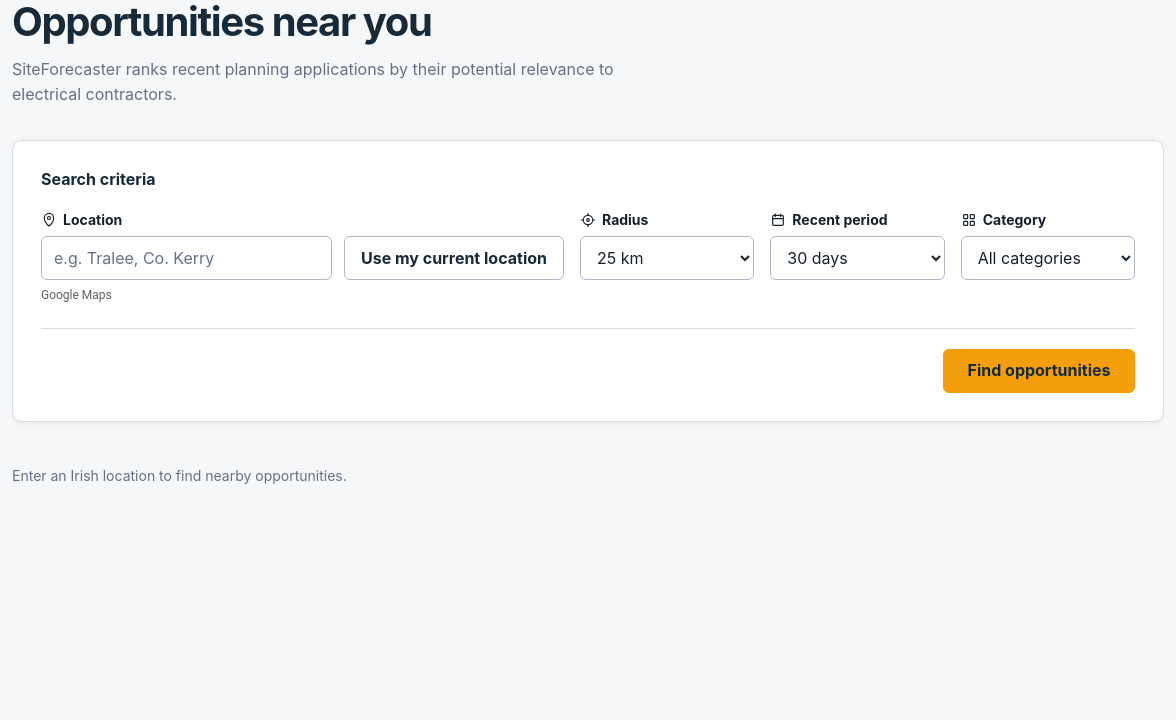
Test case: OpportunitiesPage › renders successful results and the resolved display location
The width and height of the screenshot is (1176, 720).
Type "Tralee" into the field labelled "Location" at (186, 258), box [41,236,332,280]
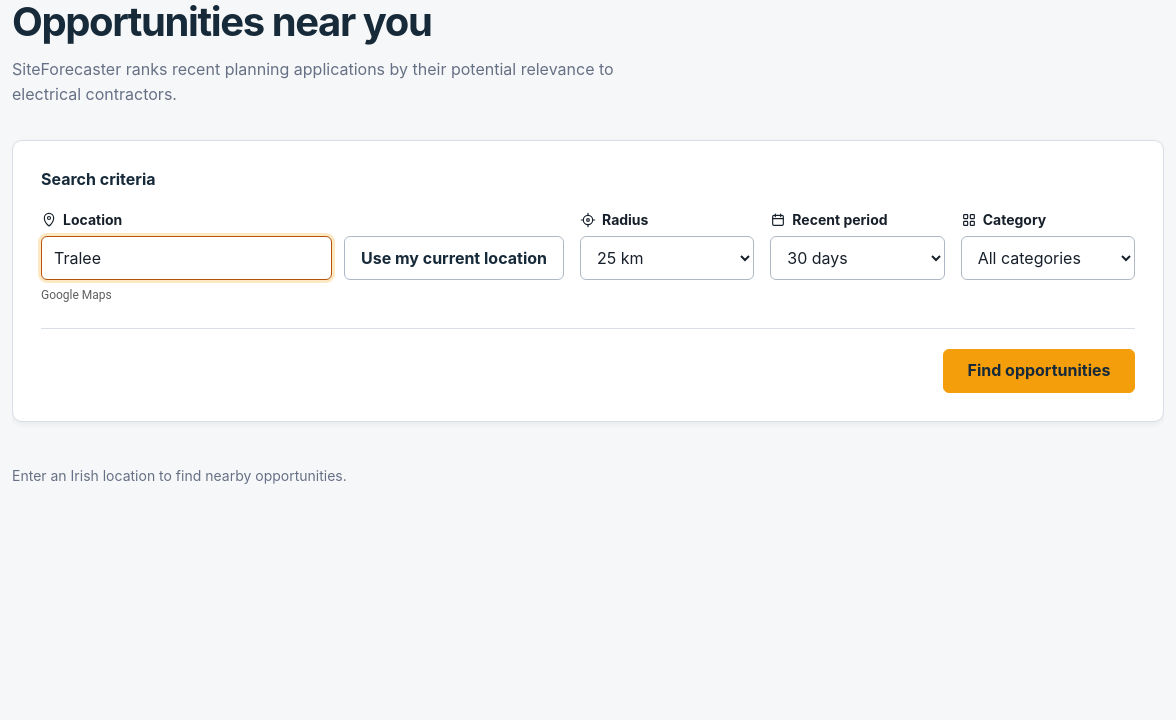
Select "25 km" in the dropdown labelled "Radius" at (667, 258), box [580,236,754,280]
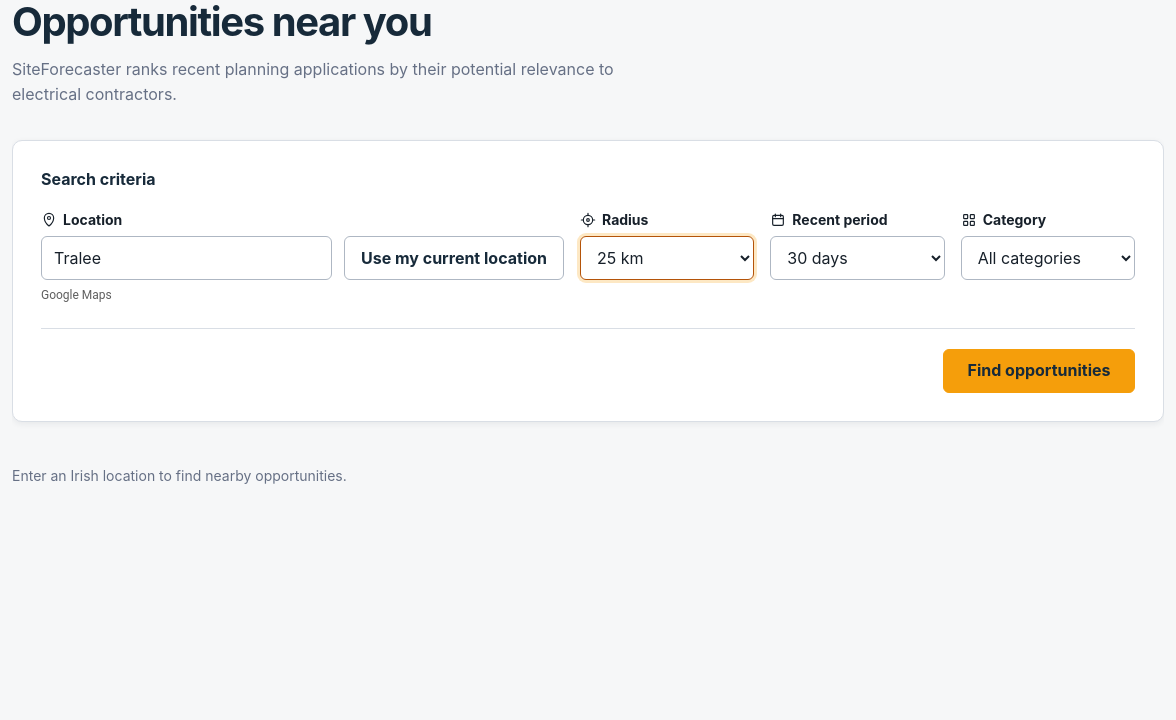
Select "30 days" in the dropdown labelled "Recent period" at (857, 258), box [770,236,945,280]
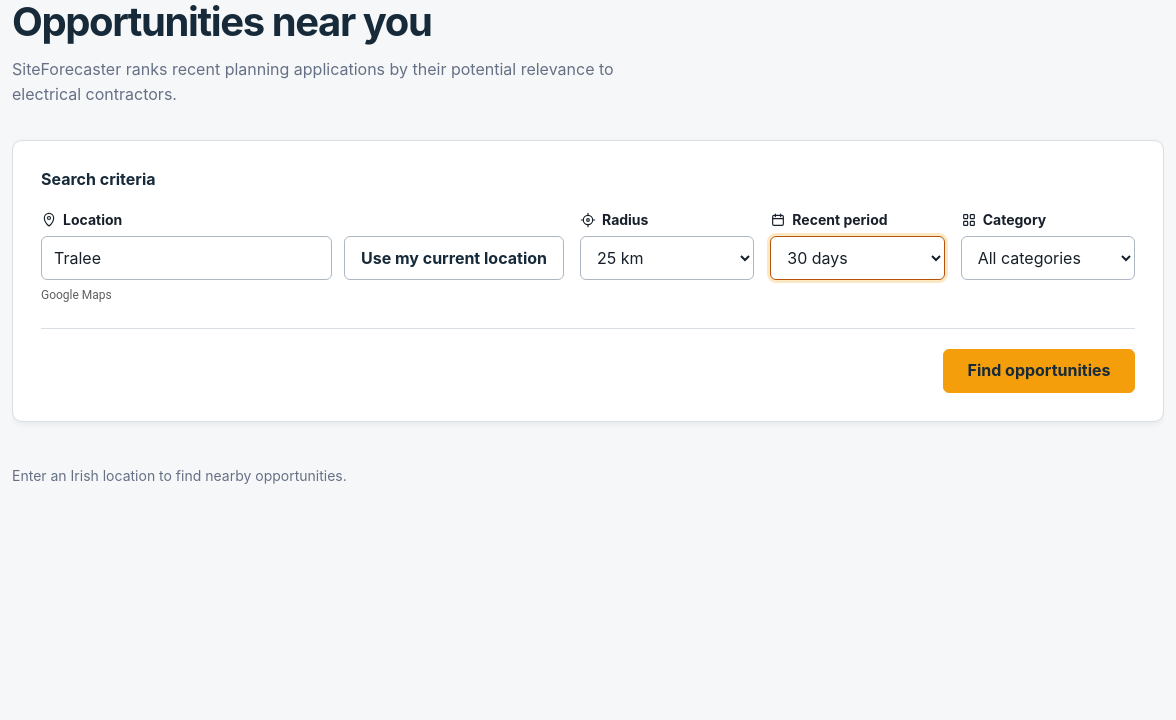
Click the button "Find opportunities" at (1039, 371), box [943,349,1135,393]
(page scrolled)
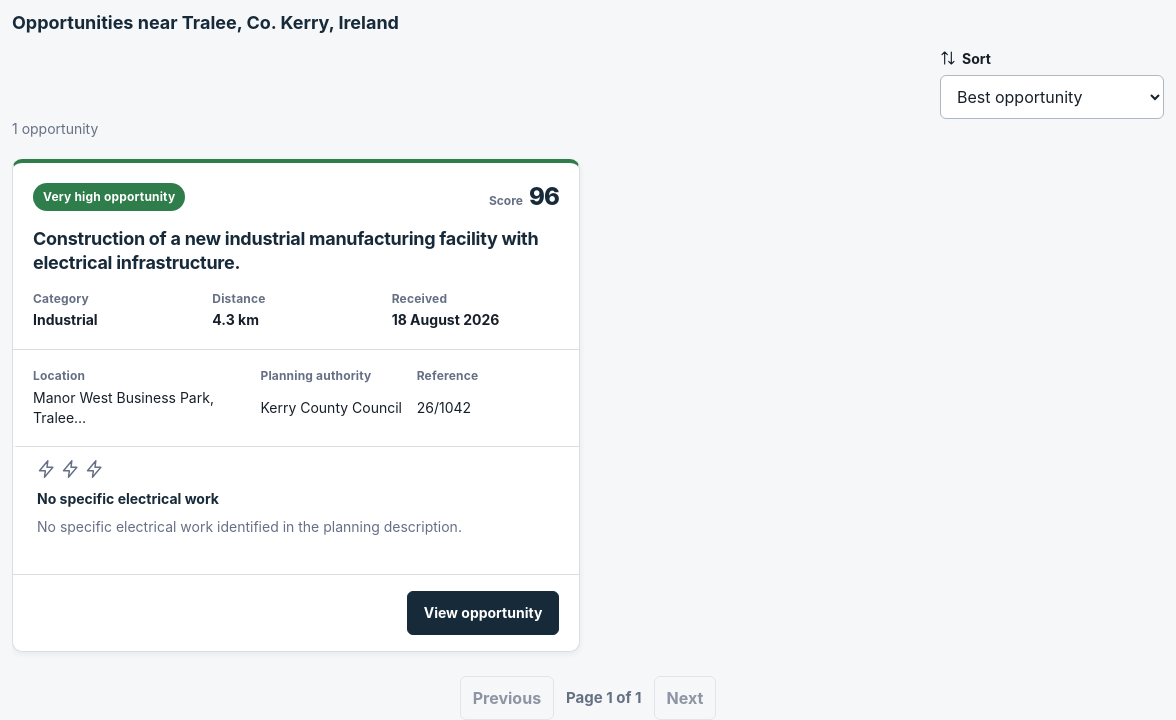
expect the heading "Opportunities near Tralee, Co. Kerry, Ireland" is shown: met, box [12,12,399,33]
expect the message reads "1 opportunity": met, box [12,119,172,137]
expect the text "96" is shown: met, box [529,185,559,209]
